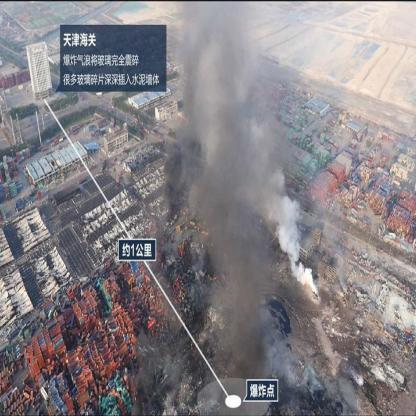smoke: (186, 9, 272, 174), (199, 178, 271, 263), (225, 263, 267, 363), (274, 185, 298, 260), (292, 265, 315, 288)
